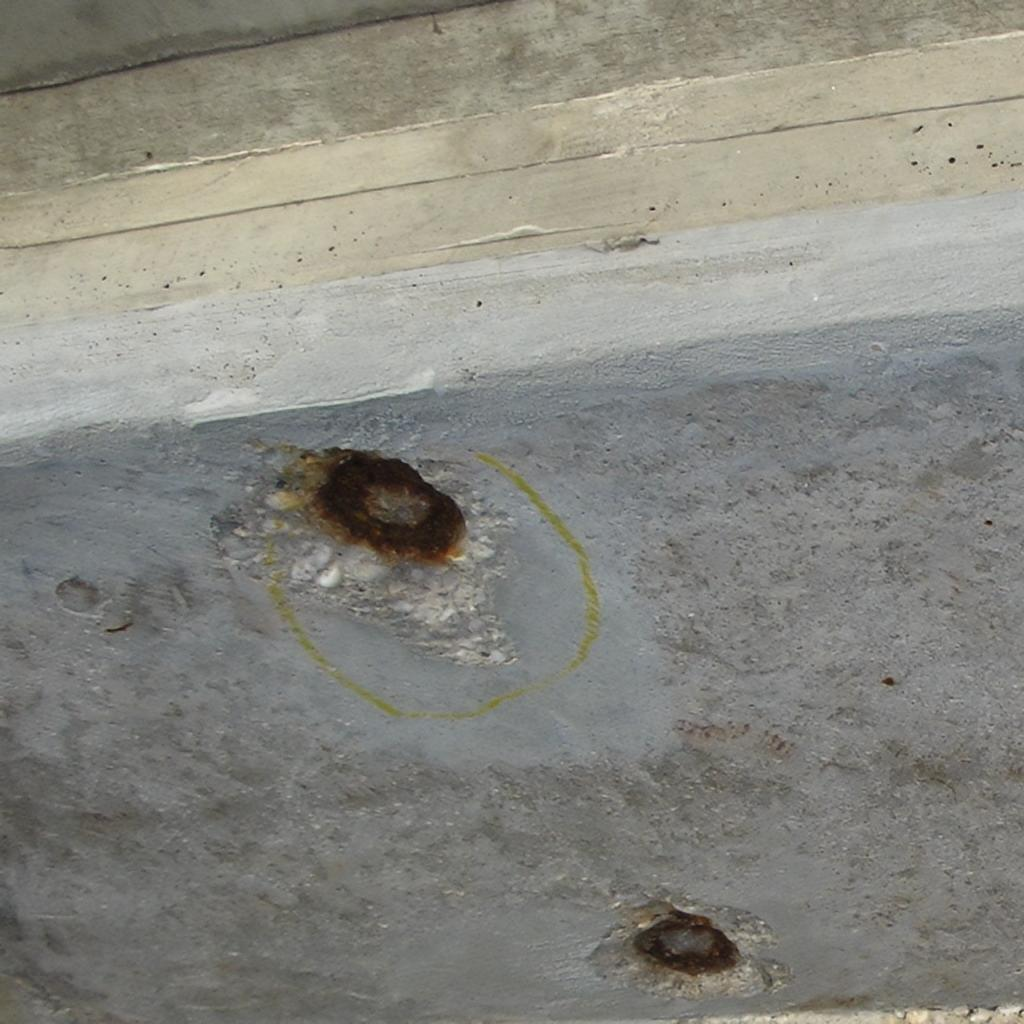exposed_rebar: (308, 452, 466, 563), (634, 910, 740, 974)
spalling: (212, 444, 516, 666), (592, 898, 786, 998)
